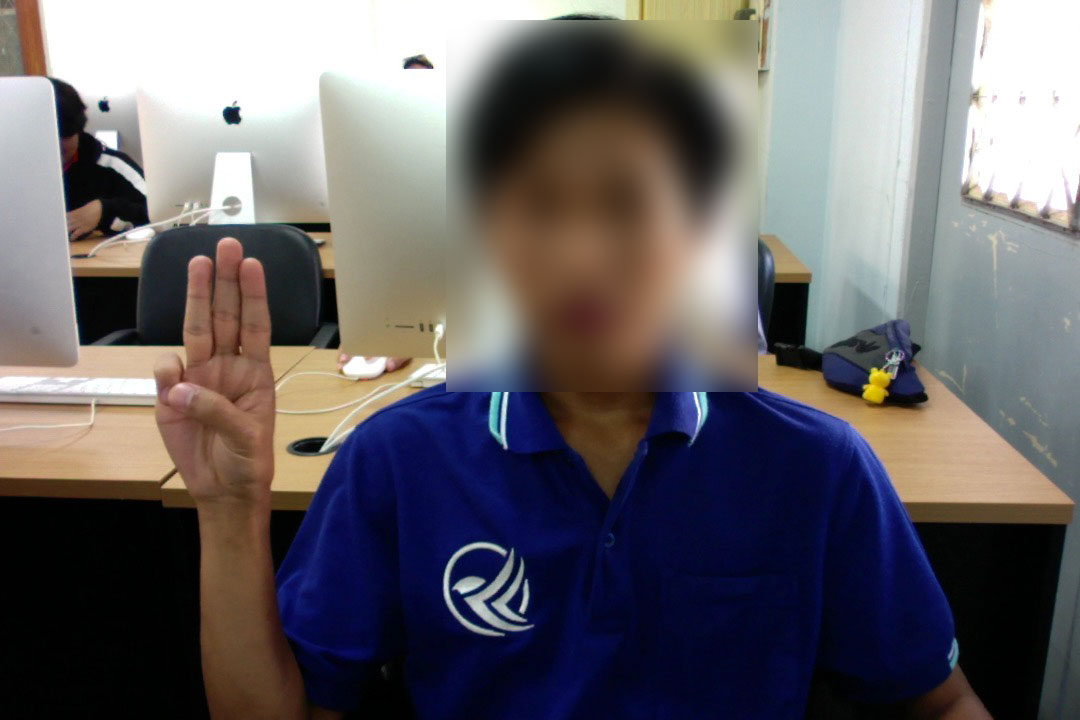wor: (151, 234, 282, 501)
